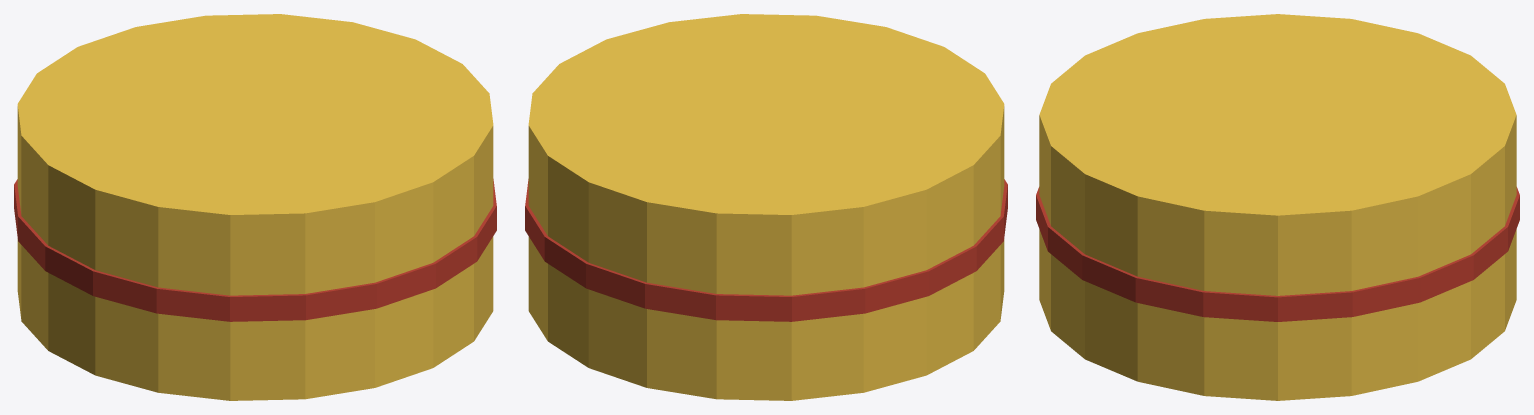
File: cheese_wheel.glb
The picture shows the model from 3 angles, left to right: view 1: azimuth 30°, elevation 25°; view 2: azimuth 150°, elevation 25°; view 3: azimuth 270°, elevation 25°; orthographic projection.
Visible parts, largest first — view 1: cheese_wheel; view 2: cheese_wheel; view 3: cheese_wheel.
Boxes of the visible parts, x1=… form: cheese_wheel: x1=14, y1=14, x2=496, y2=400; cheese_wheel: x1=525, y1=14, x2=1007, y2=400; cheese_wheel: x1=1036, y1=14, x2=1519, y2=400.
Size of the model in its own units: 0.142 by 0.06 by 0.142.
